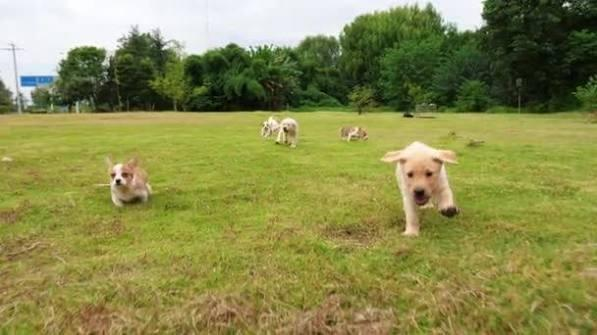puppy-dog: (380, 140, 461, 237), (104, 152, 153, 208), (275, 117, 300, 149), (339, 123, 370, 143), (260, 116, 279, 142)
